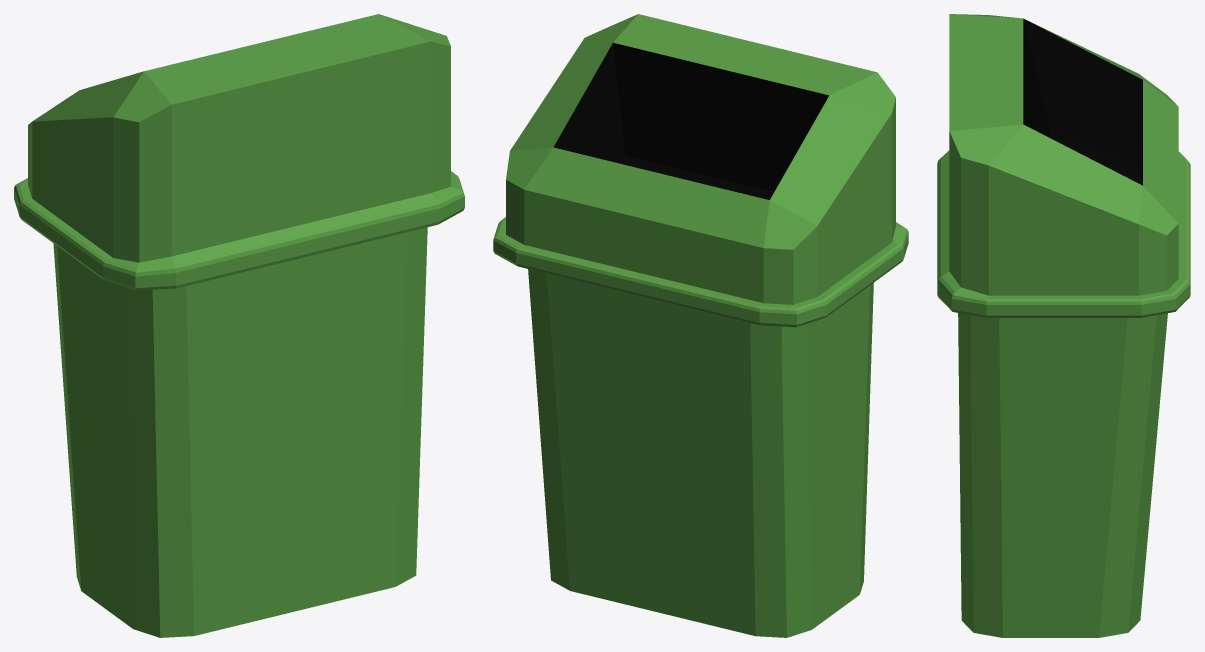
File: bin.fbx
3 renders of one model, left to right at view 1: azimuth 30°, elevation 25°; view 2: azimuth 150°, elevation 25°; view 3: azimuth 270°, elevation 25°, orthographic. The views are drawn at different scales.
Visible parts, largest first — view 1: copKutusu; view 2: copKutusu; view 3: copKutusu.
Boxes of the visible parts, x1,y1,x2,y2 form: copKutusu: (14, 14, 464, 637); copKutusu: (493, 14, 908, 637); copKutusu: (937, 14, 1190, 637).
Bounding box in the file's own units: 83.97 × 123 × 55.9.
